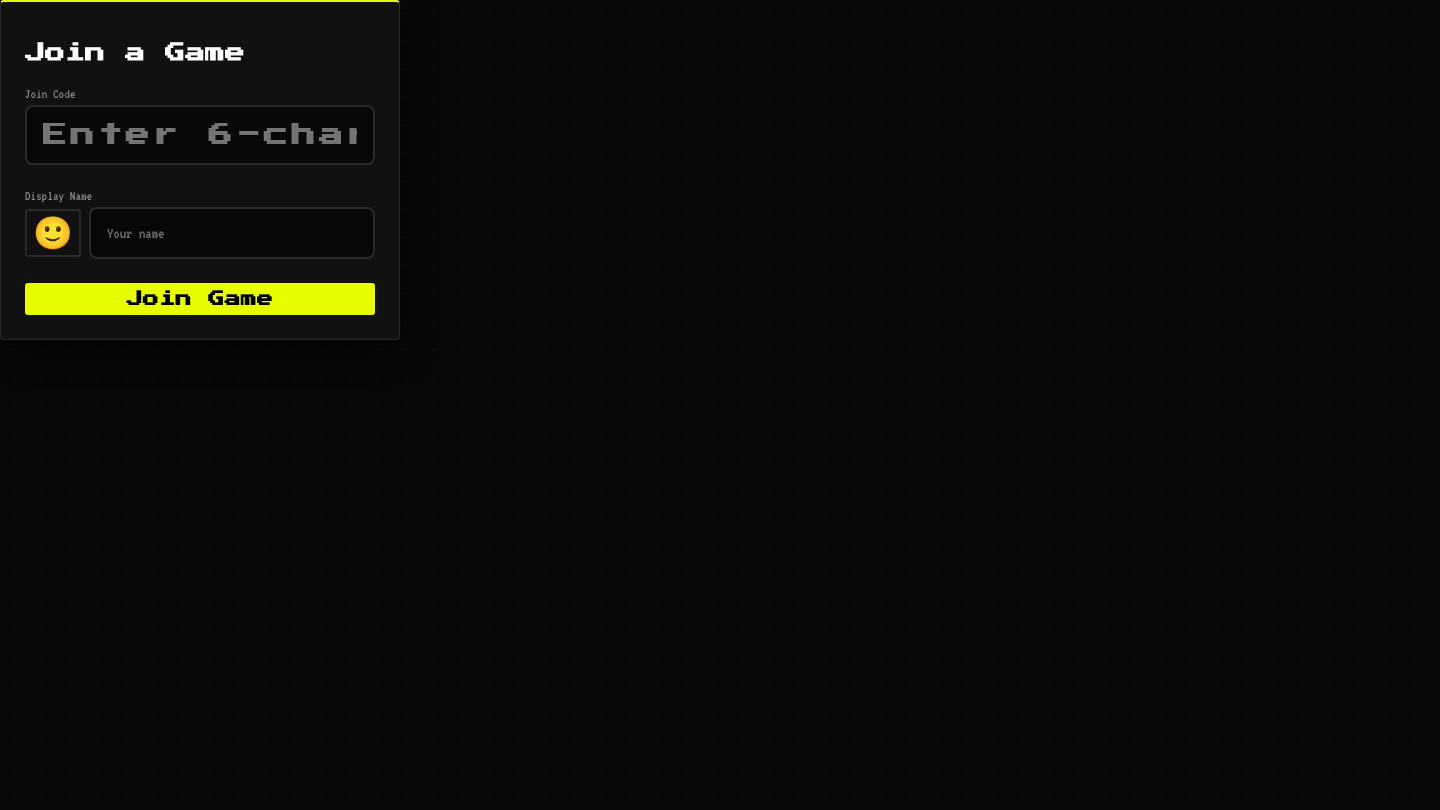
Test: JoinForm › shows error when display name is empty
This screenshot has width=1440, height=810.
In the field with placeholder "Enter 6-character code": (200, 135) left=25, top=105, right=375, bottom=165, type "ABC123"
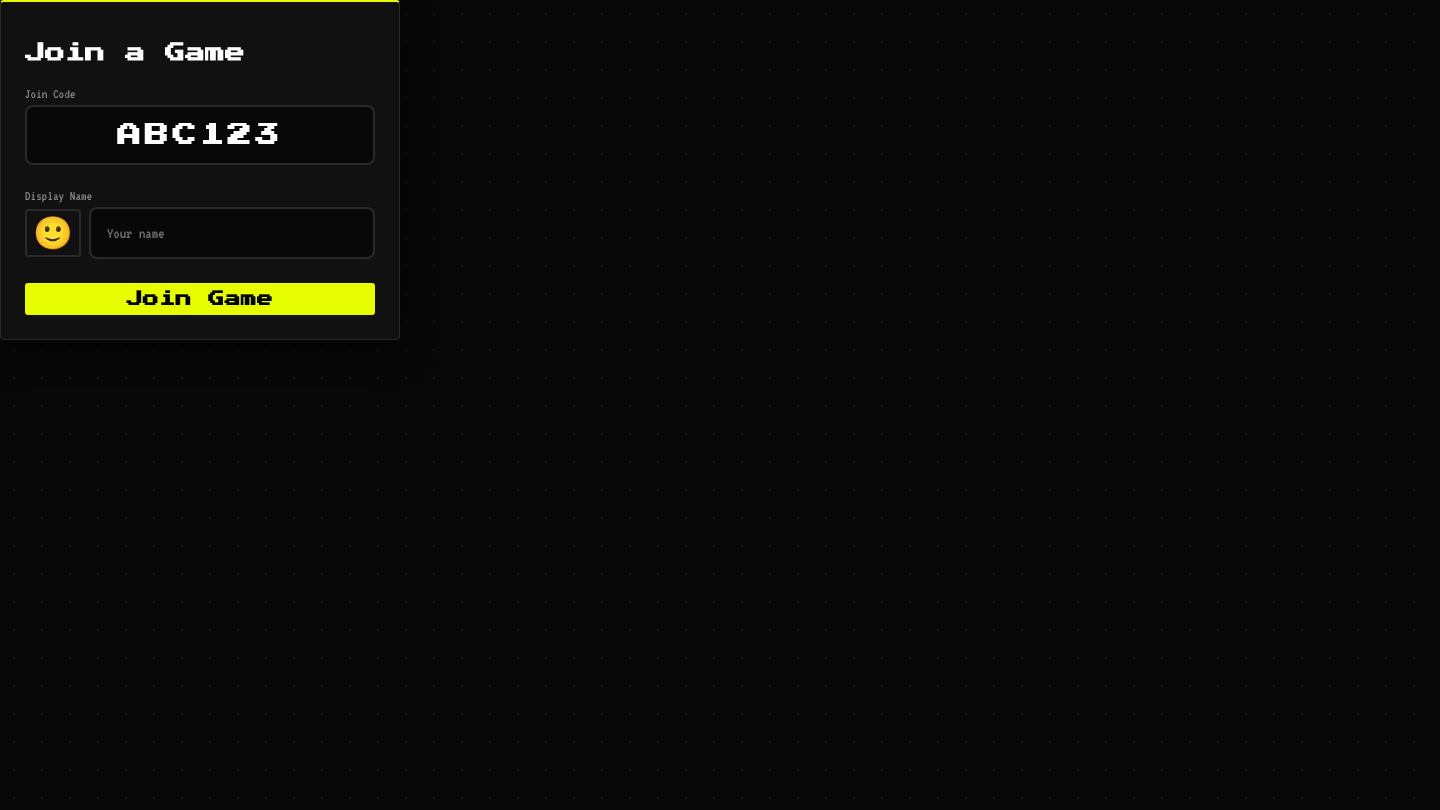
Click the button "Join Game": click(200, 299) left=25, top=283, right=375, bottom=315
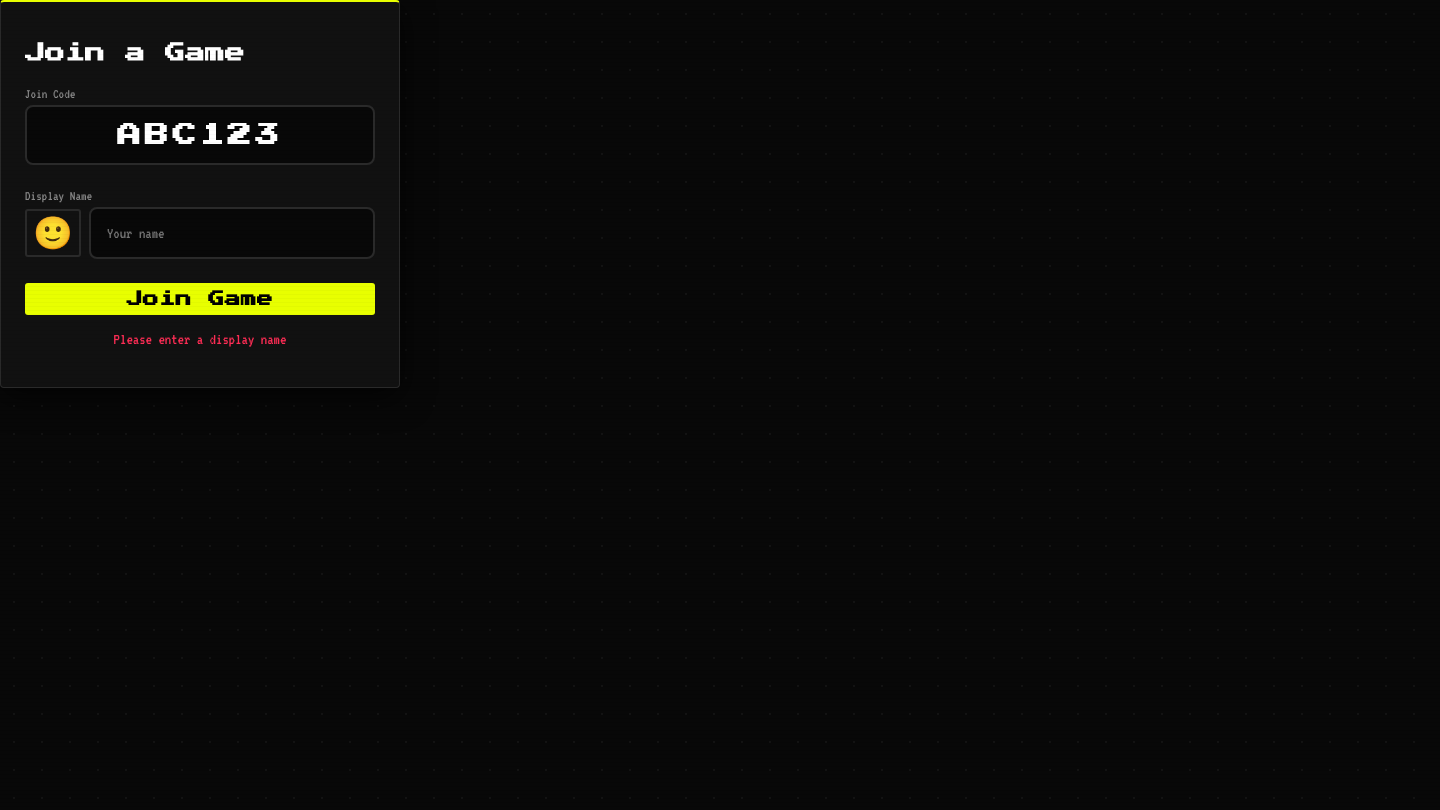
Expected: the text "Please enter a display name" is shown, left=114, top=331, right=286, bottom=347
